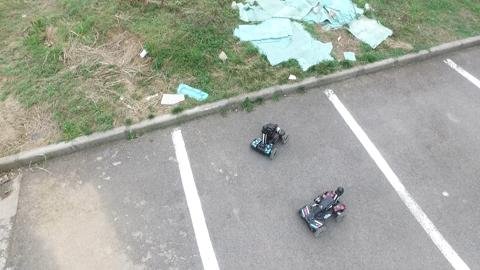chariot: (293, 179, 357, 237), (243, 117, 290, 161)
